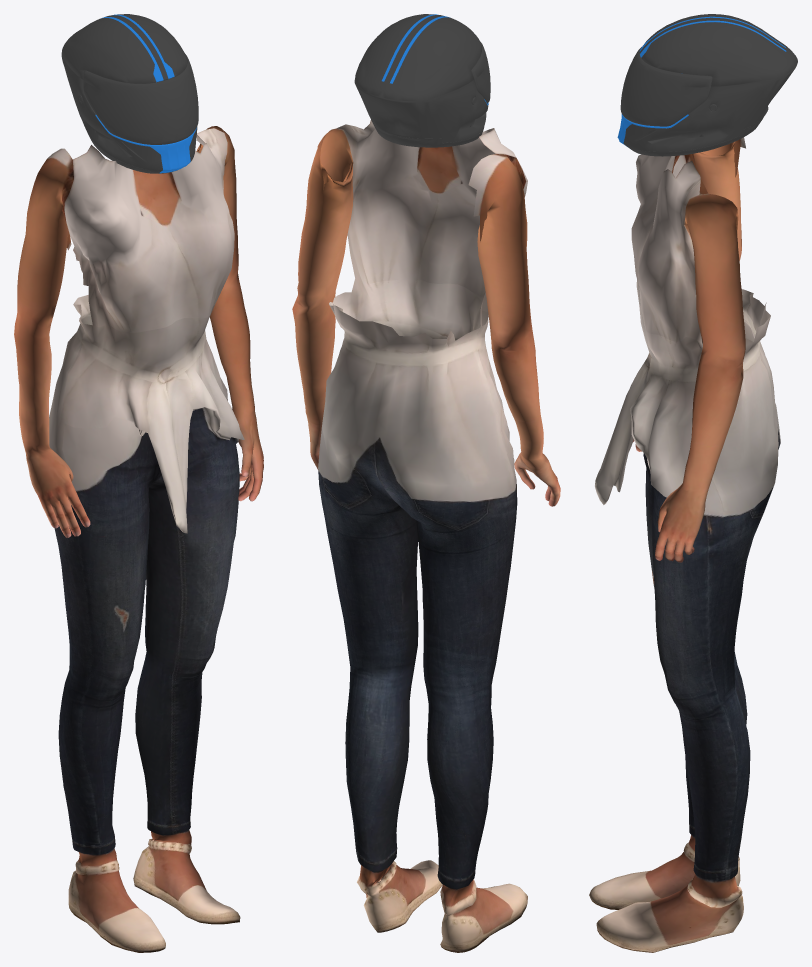
3 views of the same model, side by side, from view 1: azimuth 30°, elevation 25°; view 2: azimuth 150°, elevation 25°; view 3: azimuth 270°, elevation 25° (orthographic). The views are drawn at different scales.
Visible parts, largest first — view 1: rider, helmet; view 2: rider, helmet; view 3: rider, helmet.
Boxes of the visible parts, bbox=[...] form: rider: bbox=[14, 126, 263, 952]; helmet: bbox=[61, 14, 198, 173]; rider: bbox=[292, 120, 560, 952]; helmet: bbox=[354, 14, 490, 147]; rider: bbox=[589, 128, 780, 952]; helmet: bbox=[617, 14, 797, 156].
Bounding box in the file's own units: 0.4691 × 1.74 × 0.3636.
2 materials, 2 textured.
